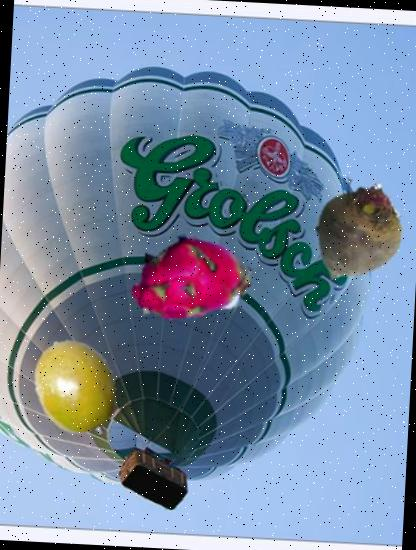Beetroot: (296, 173, 416, 297)
Maracuja: (23, 334, 132, 442)
Pitahaya: (126, 211, 259, 344)
